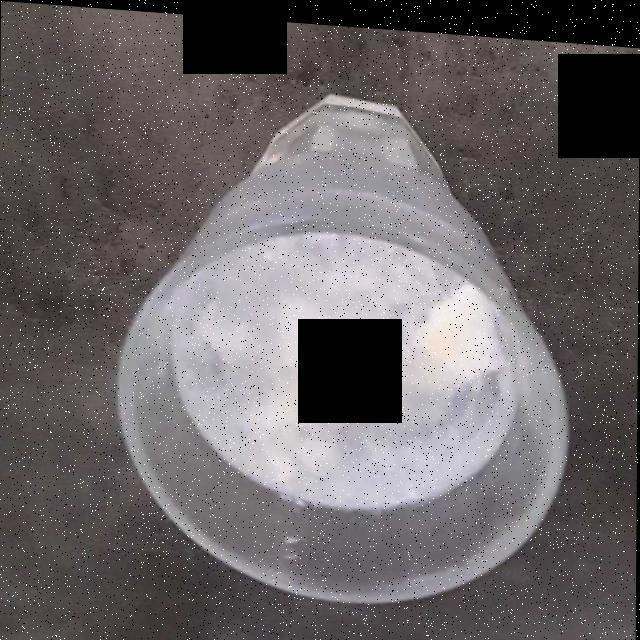water: (169, 230, 504, 506)
